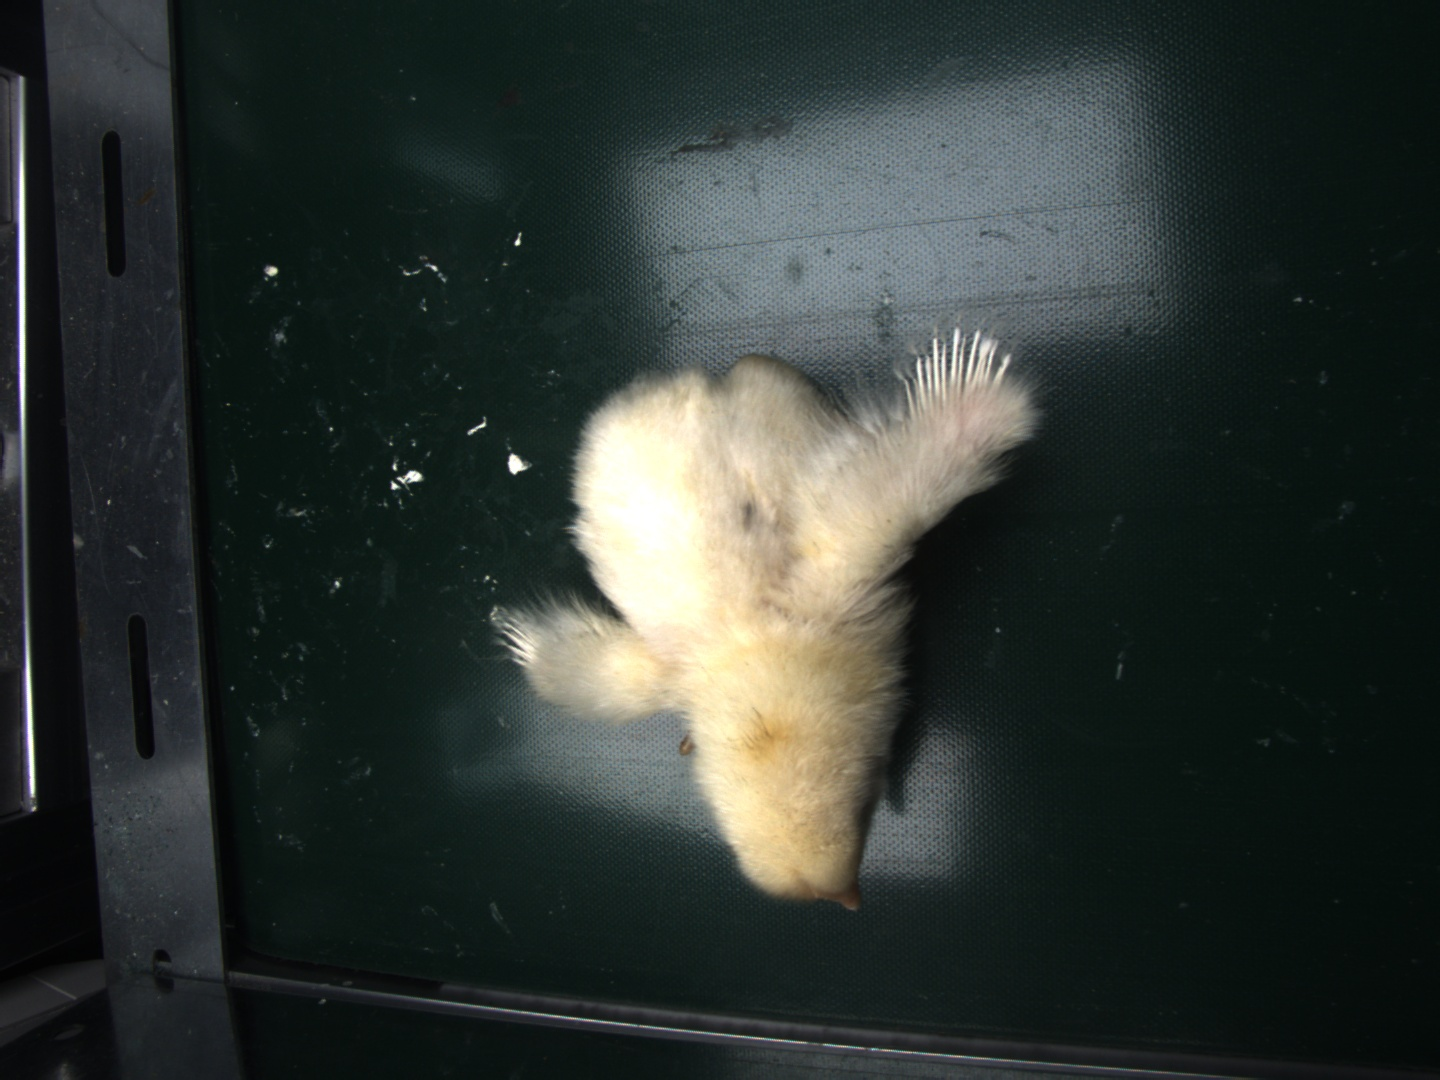male: (903, 330, 1007, 408)
